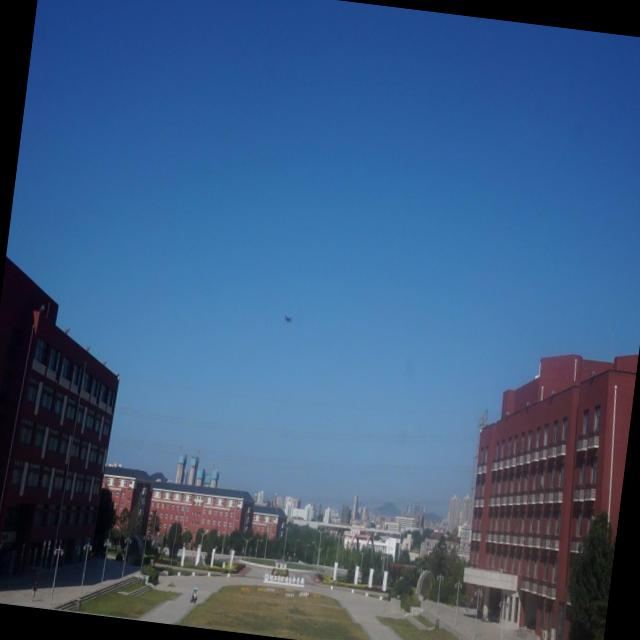drone: (282, 308, 294, 326)
